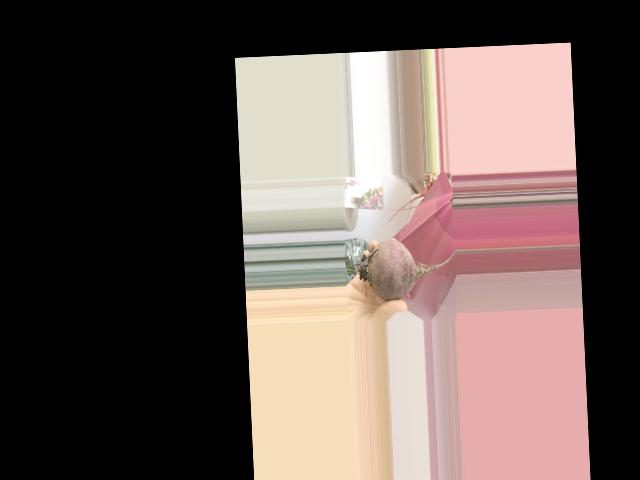beet: (344, 235, 457, 302)
